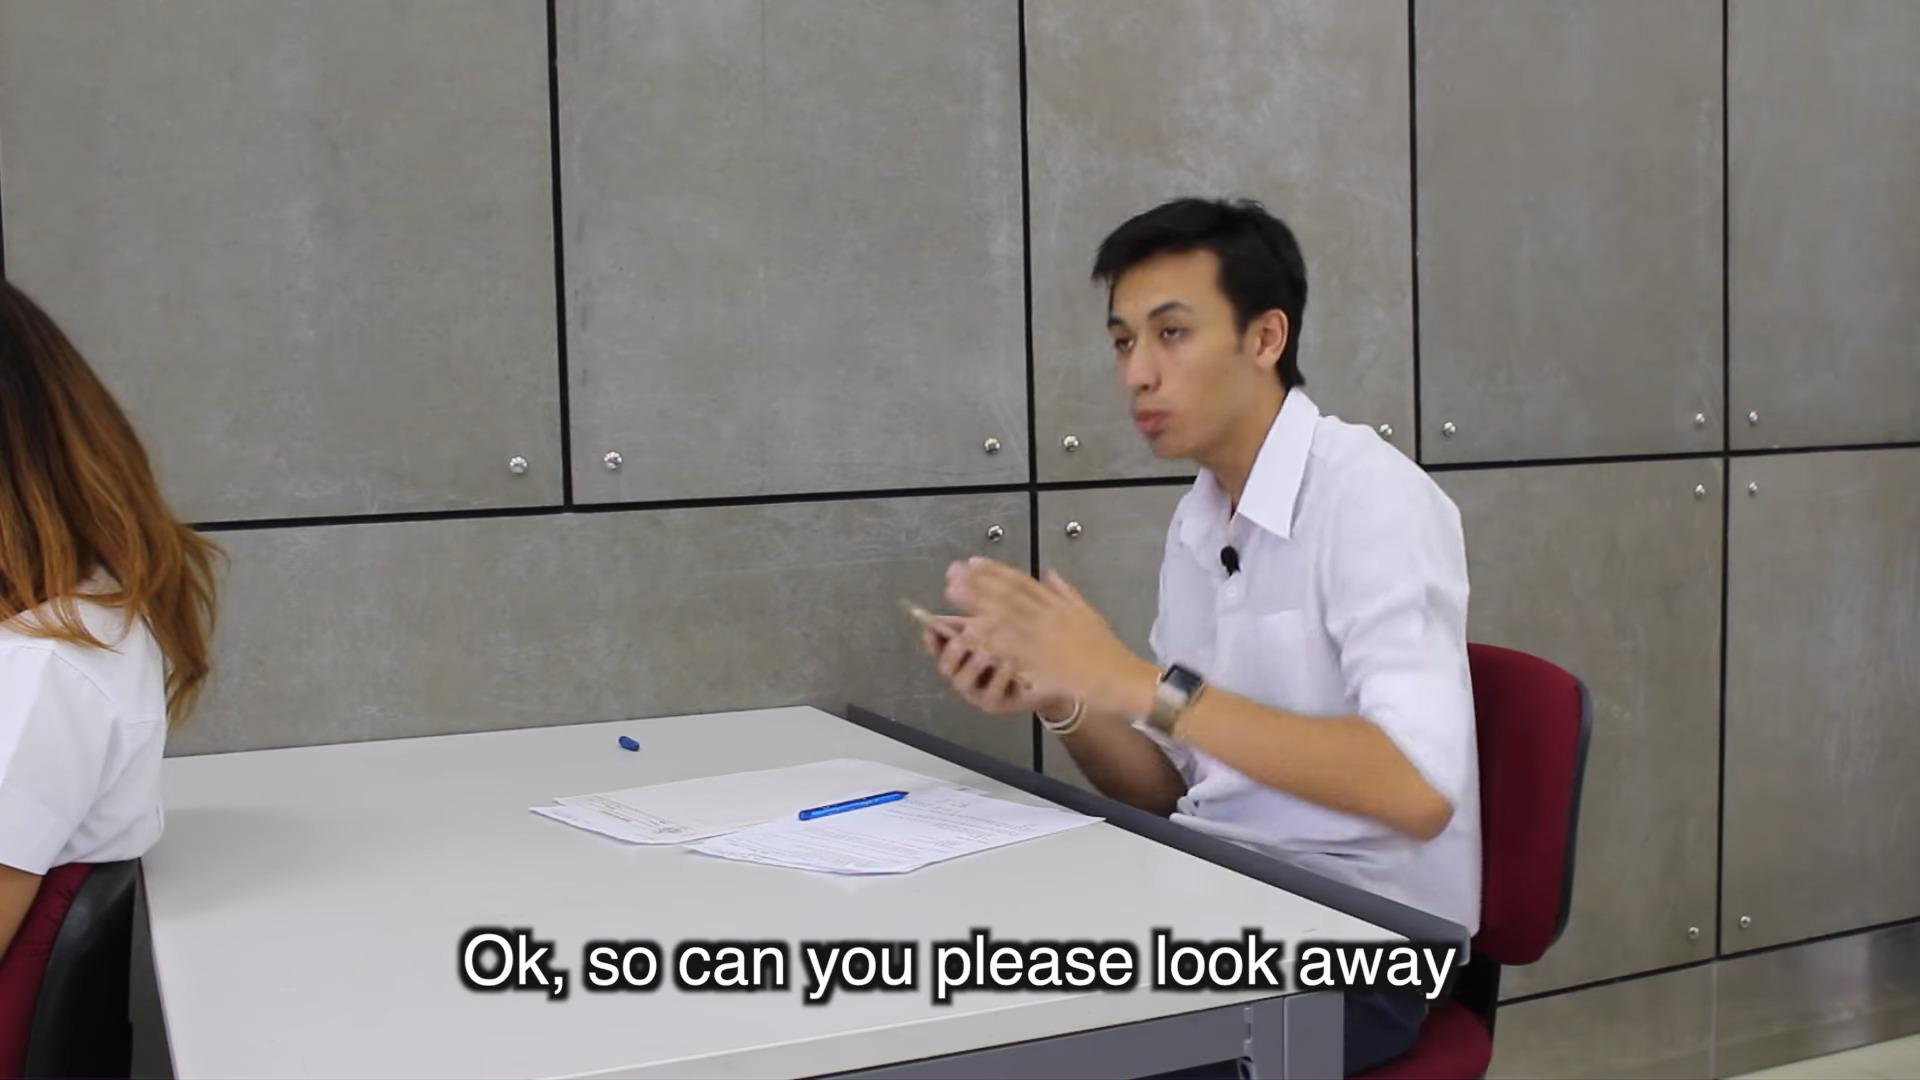cheating: (901, 170, 1523, 895)
